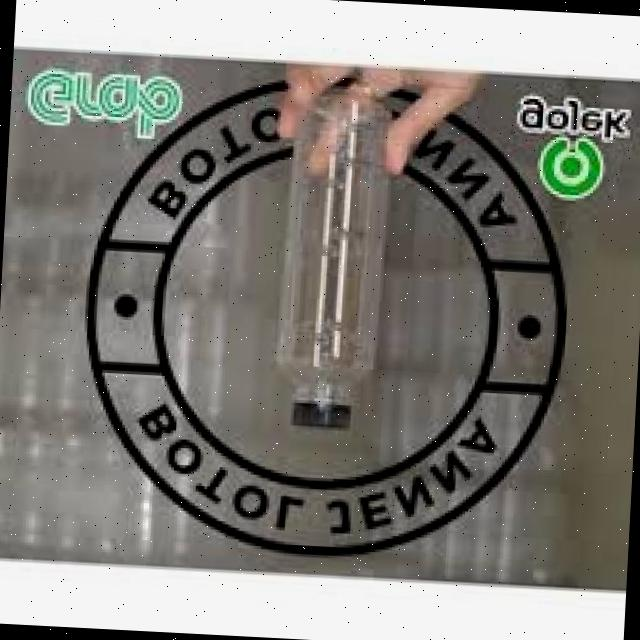bottle: (246, 69, 438, 440)
cap: (286, 397, 361, 439)
